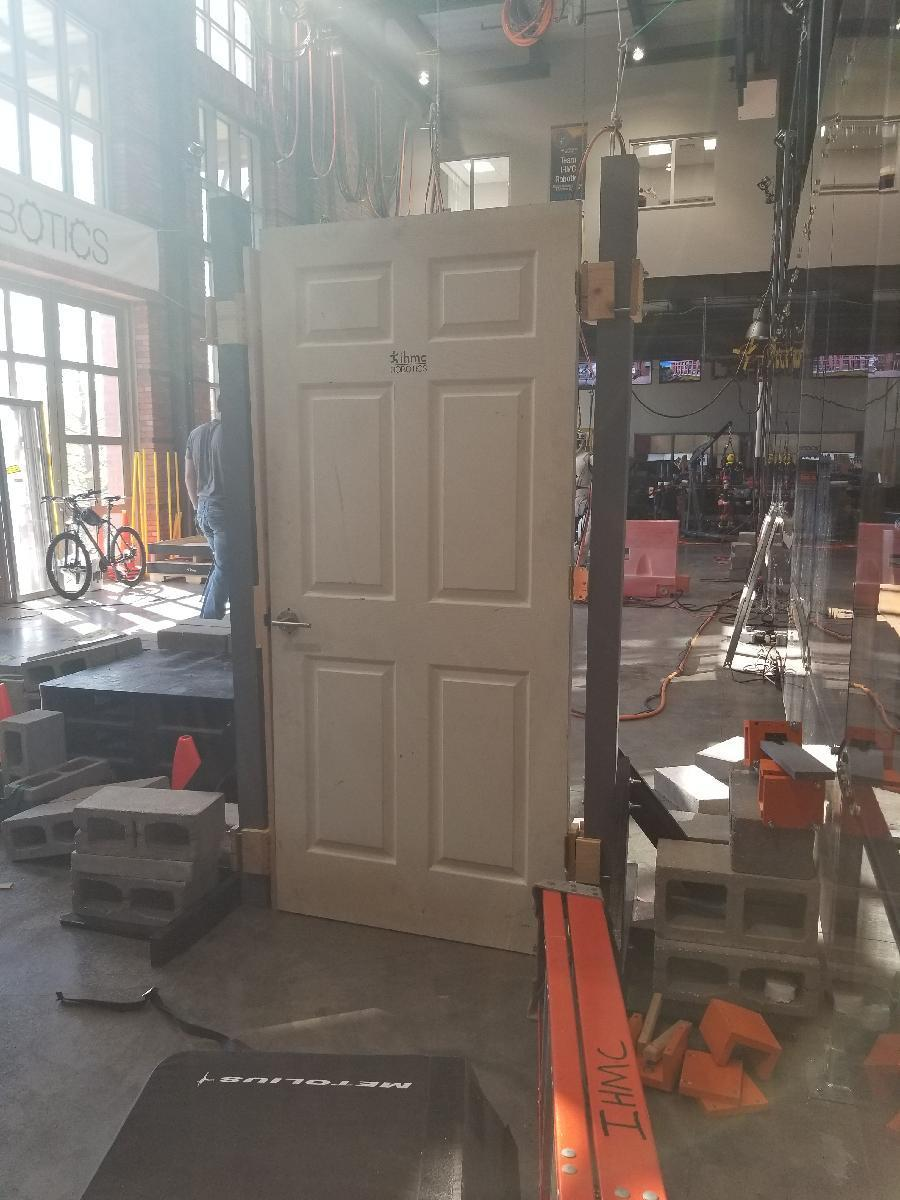door: (258, 226, 576, 952)
handle: (274, 605, 314, 636)
